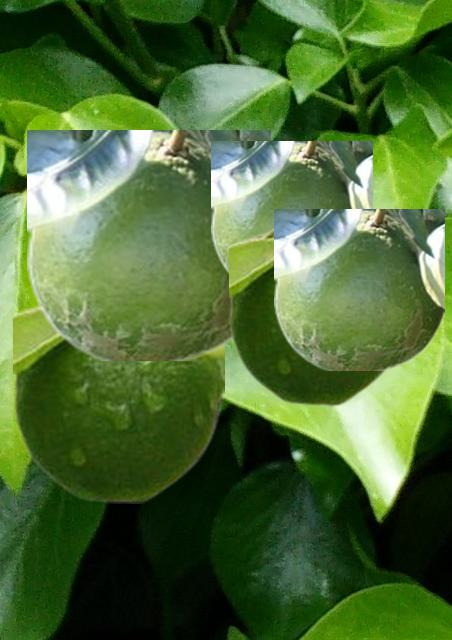dalandan: (27, 130, 269, 359), (13, 303, 223, 502), (229, 224, 387, 405), (274, 209, 443, 369), (211, 141, 371, 275)
